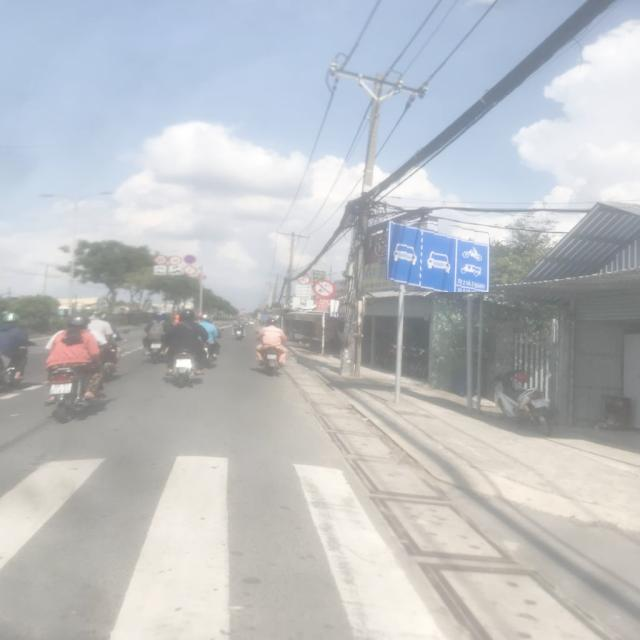cam_cac_loai_xe_3_banh: (313, 279, 337, 298)
cam_dung_xe_va_do_xe: (184, 254, 196, 264)
cam_o_to_tai_va_xe_khach: (297, 274, 311, 284)
cam_xe_2_banh_va_xe_3_banh_co_dong_co: (184, 264, 198, 275)
khac: (292, 297, 314, 311), (296, 285, 311, 299), (168, 270, 181, 274), (154, 266, 166, 270), (154, 270, 166, 274), (169, 266, 181, 270)
lan_duong_cho_tung_xe_theo_vach_ke_duong: (386, 220, 489, 292)
toc_do_toi_da_60: (168, 255, 182, 265)
toc_do_toi_da_80: (154, 255, 167, 265)
